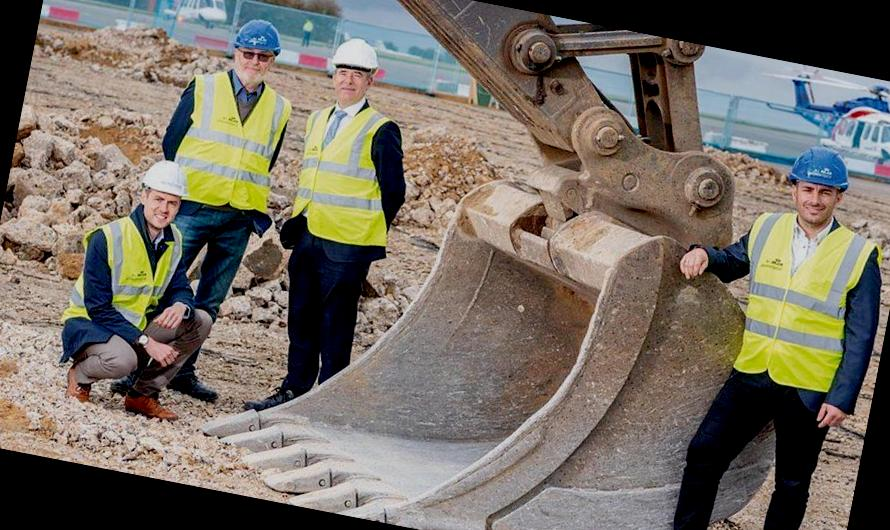helmet: (782, 132, 870, 210), (222, 12, 290, 69), (330, 30, 388, 86), (144, 155, 192, 205)
person: (648, 119, 890, 530), (114, 0, 304, 405), (239, 23, 419, 447), (41, 147, 205, 423)
